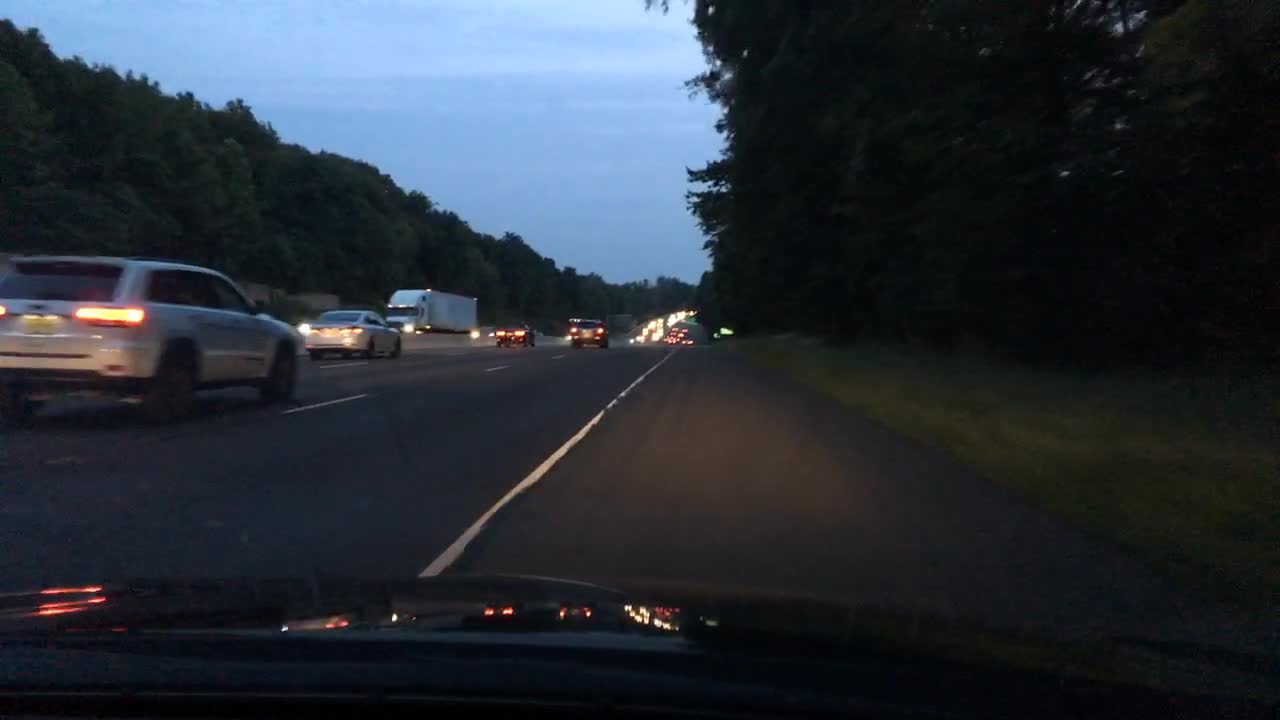car: (0, 253, 299, 424), (303, 309, 401, 361), (571, 319, 610, 350), (495, 323, 535, 349), (469, 325, 496, 340), (295, 316, 313, 336), (625, 334, 646, 348), (648, 330, 665, 343), (681, 334, 696, 346), (561, 329, 572, 343), (671, 330, 686, 340), (673, 309, 686, 320), (661, 315, 675, 325), (676, 324, 691, 333), (665, 336, 680, 345), (650, 318, 661, 330), (665, 325, 681, 333), (665, 330, 676, 340), (685, 308, 694, 318), (641, 326, 651, 334)
truck: (381, 288, 479, 335)
